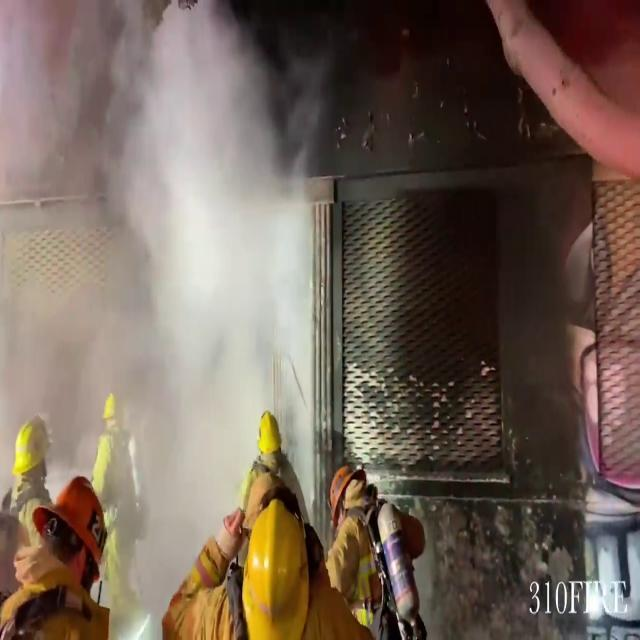Smoke: (0, 0, 364, 612)
